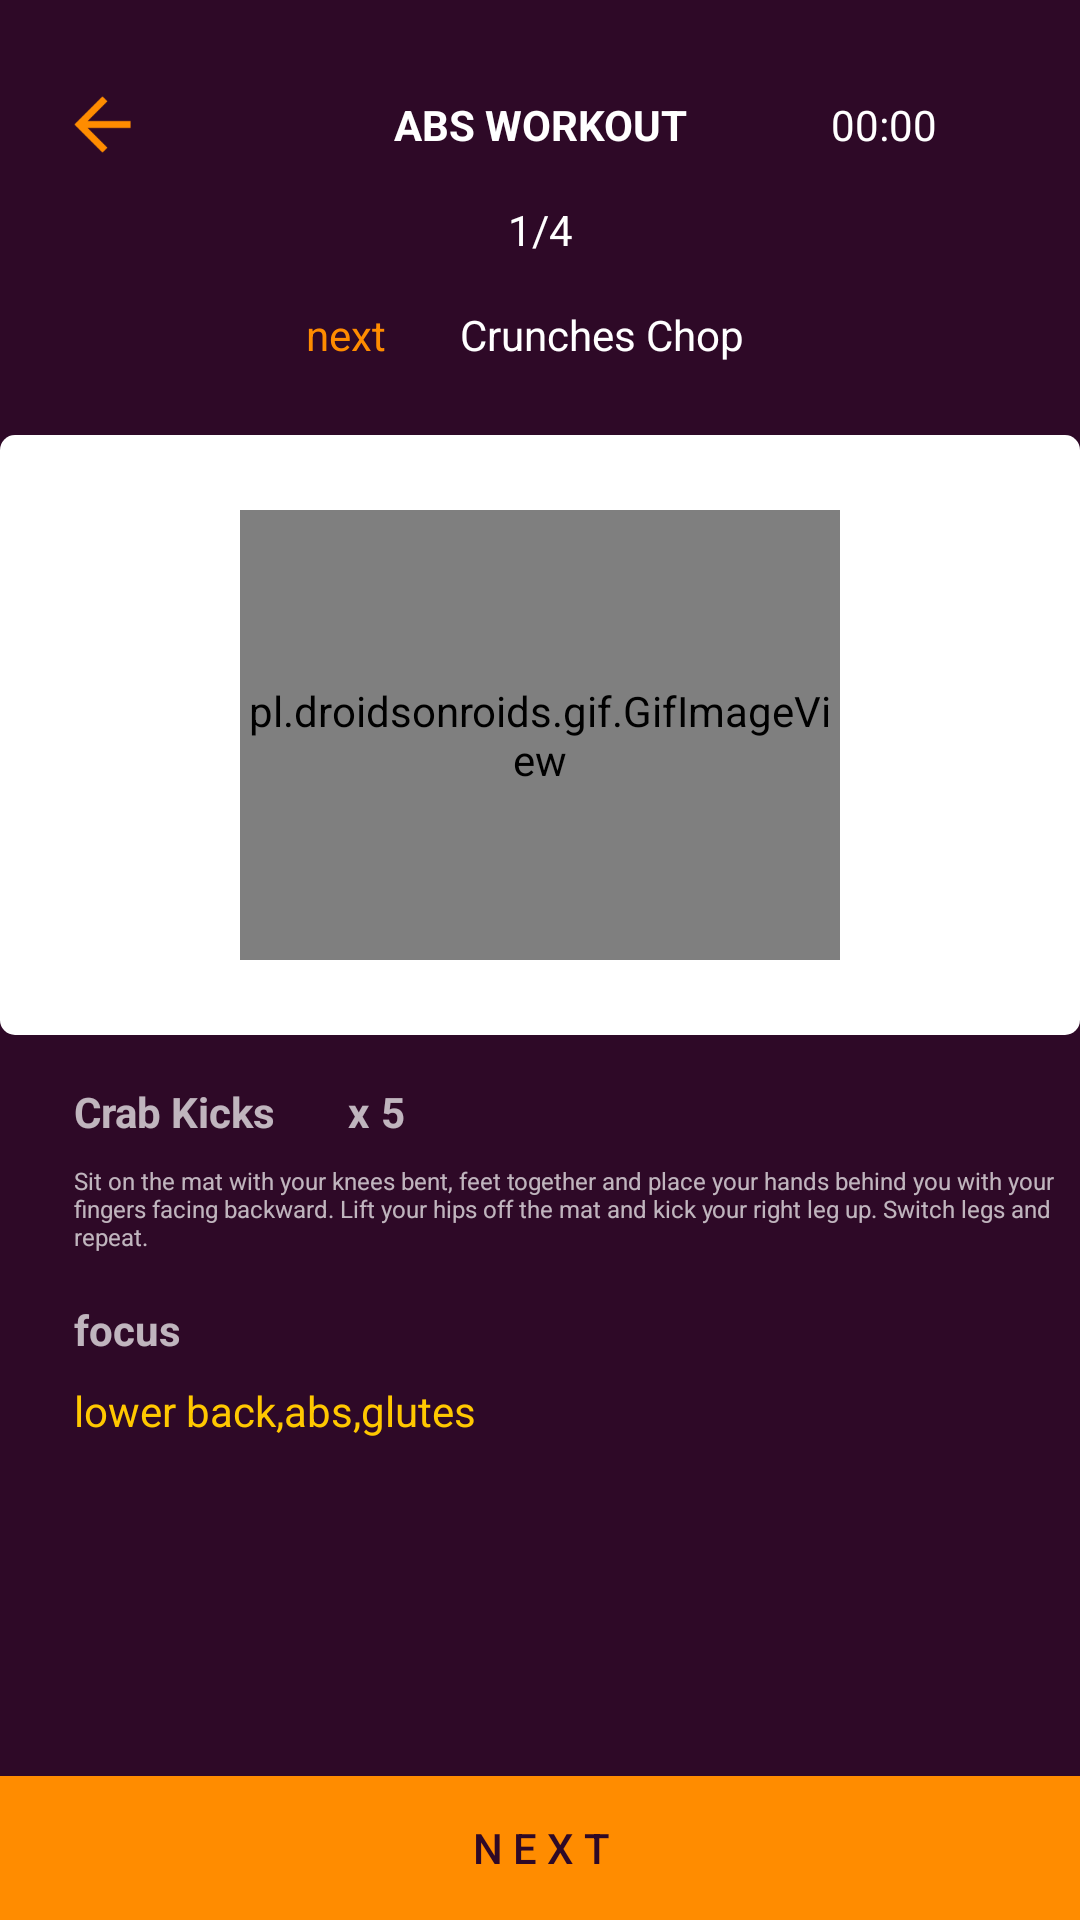

Icon bounding boxes for this 1080w x 1920h phone screenshot, format (left=x1, top=y1, right=x2, bottom=y2):
back: (left=74, top=96, right=131, bottom=153)
